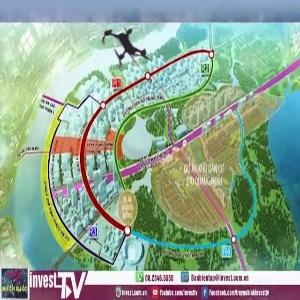drone: (84, 7, 167, 90)
